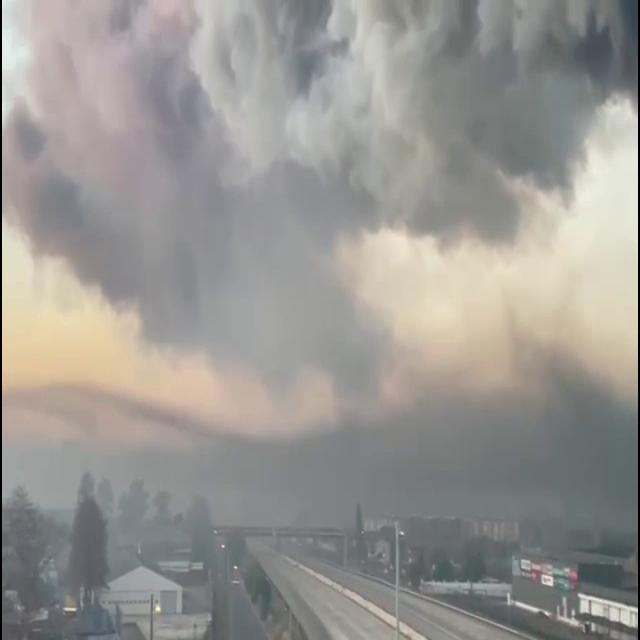Smoke: (3, 306, 638, 640), (2, 0, 398, 422), (182, 0, 639, 253)
